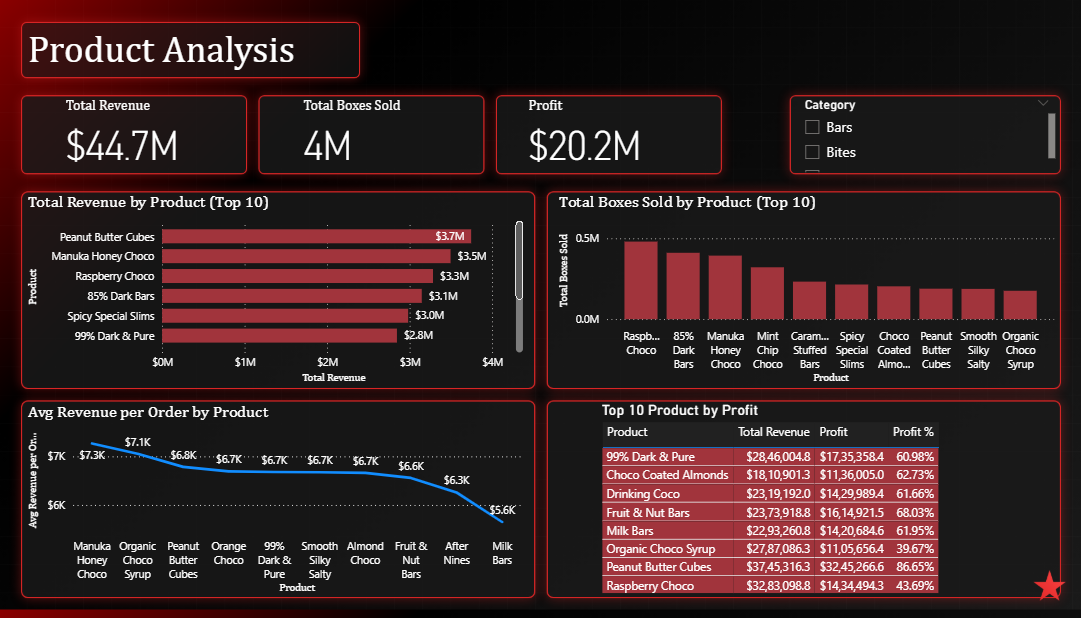

What the dashboard file says about the page in this screenshot:
{"tool":"powerbi","page":{"name":"Product Analysis","canvas":[1280,720],"ordinal":1},"visuals":[{"type":"image","box":[0,0,1280,720],"z":0},{"type":"textbox","box":[48,32,384,64],"z":1000},{"type":"cardVisual","fields":{"Data":["All Mesaures.Total Revenue"]},"box":[80,112,208,96],"z":2000},{"type":"cardVisual","fields":{"Data":["All Mesaures.Total Boxes Sold"]},"box":[352,112,208,96],"z":3000},{"type":"cardVisual","fields":{"Data":["All Mesaures.Profit"]},"box":[608,112,208,96],"z":4000},{"type":"slicer","fields":{"Values":["products.Category"]},"box":[928,112,304,96],"z":5000},{"type":"barChart","title":"Total Revenue by Product (Top 10)","fields":{"Category":["products.Product"],"Y":["All Mesaures.Total Revenue"]},"box":[48,224,576,224],"z":6000},{"type":"clusteredColumnChart","title":"Total Boxes Sold by Product (Top 10)","fields":{"Category":["products.Product"],"Y":["All Mesaures.Total Boxes Sold"]},"box":[656,224,576,224],"z":7000},{"type":"lineChart","fields":{"Y":["All Mesaures.Avg Revenue per Order"],"Category":["products.Product"]},"box":[48,464,576,224],"z":8000},{"type":"tableEx","title":"Top 10 Product by Profit","fields":{"Values":["products.Product","All Mesaures.Total Revenue","All Mesaures.Profit","All Mesaures.Profit %"]},"box":[704,464,576,224],"z":9000}]}

Visuals, with their boxes in screenshot pixels (x1, y1, x2, y2), scaled from the page's 1280x720 canvas onto the 1081x618 screenshot:
image: <bbox>0, 0, 1080, 617</bbox>
textbox: <bbox>41, 27, 365, 82</bbox>
cardVisual - All Mesaures.Total Revenue: <bbox>68, 96, 243, 179</bbox>
cardVisual - All Mesaures.Total Boxes Sold: <bbox>297, 96, 473, 179</bbox>
cardVisual - All Mesaures.Profit: <bbox>513, 96, 689, 179</bbox>
slicer - products.Category: <bbox>784, 96, 1040, 179</bbox>
"Total Revenue by Product (Top 10)" barChart: <bbox>41, 192, 527, 385</bbox>
"Total Boxes Sold by Product (Top 10)" clusteredColumnChart: <bbox>554, 192, 1040, 385</bbox>
lineChart - All Mesaures.Avg Revenue per Order x products.Product: <bbox>41, 398, 527, 591</bbox>
"Top 10 Product by Profit" tableEx: <bbox>595, 398, 1080, 591</bbox>
